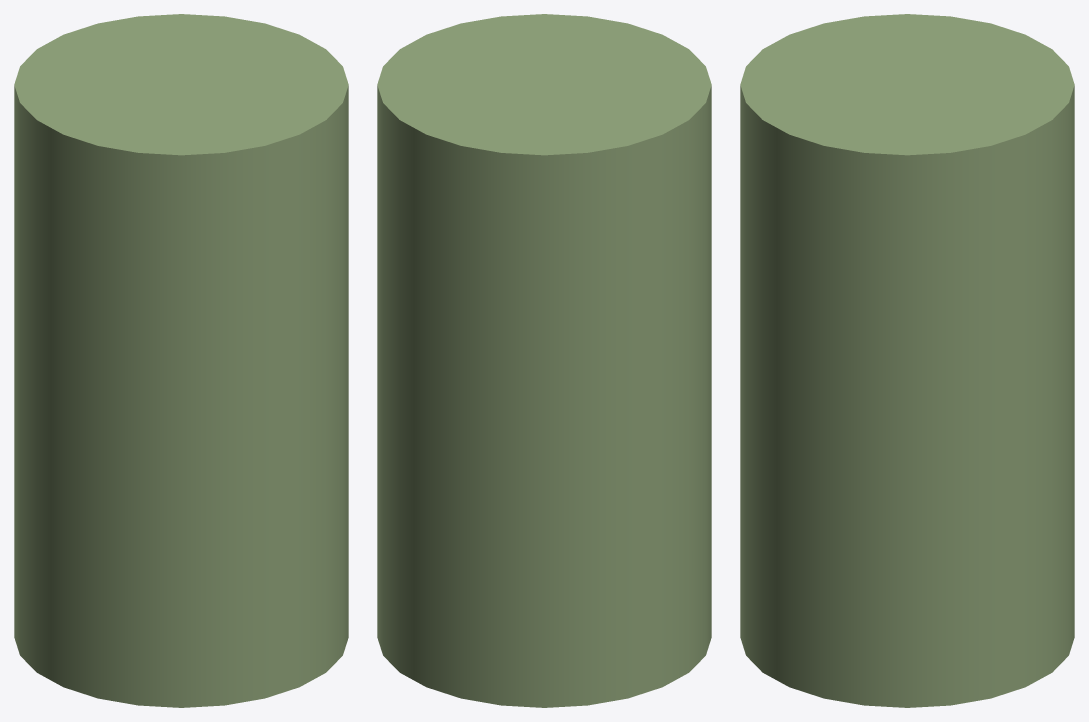
Rendered from PhyllostachysAurea.glb.
The picture shows the model from 3 angles, left to right: view 1: azimuth 30°, elevation 25°; view 2: azimuth 150°, elevation 25°; view 3: azimuth 270°, elevation 25°; orthographic projection.
Visible parts, largest first — view 1: Bamboo__Schematic_LOD3; view 2: Bamboo__Schematic_LOD3; view 3: Bamboo__Schematic_LOD3.
Boxes of the visible parts, <box> form: Bamboo__Schematic_LOD3: <box>14,14,348,707</box>; Bamboo__Schematic_LOD3: <box>377,14,711,707</box>; Bamboo__Schematic_LOD3: <box>740,14,1074,707</box>.
Bounding box in the file's own units: 2.38 × 4.34 × 2.38.
